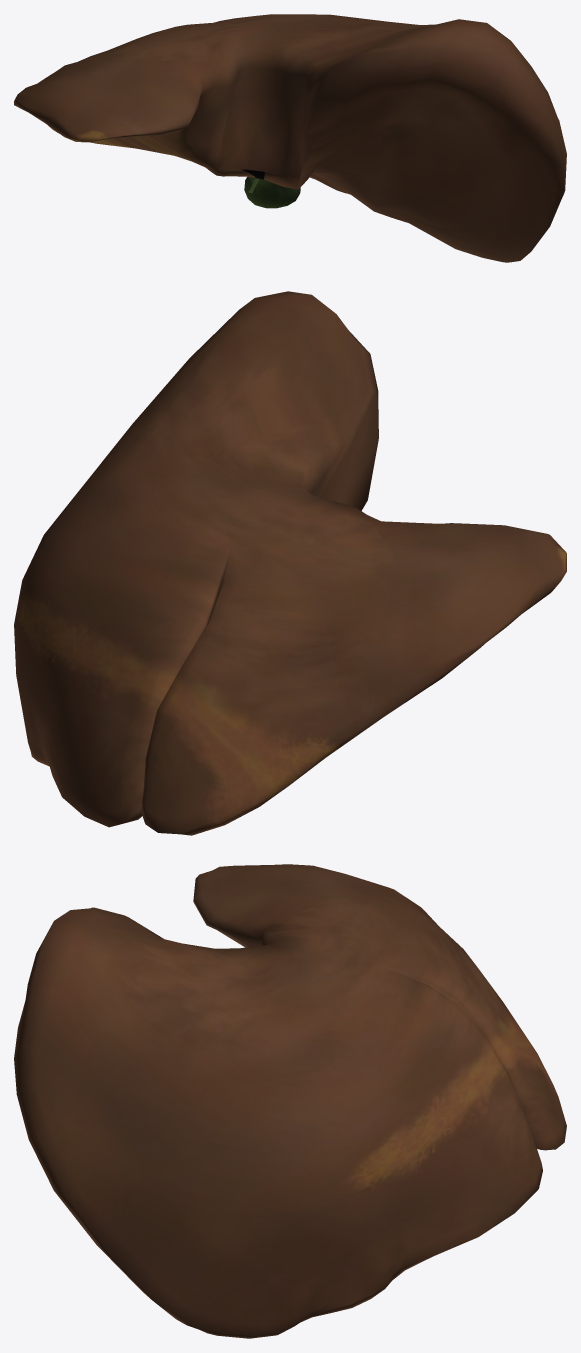
Rendered from resizedLiver.fbx.
3 views of the same model, one above another, from view 1: azimuth 30°, elevation 25°; view 2: azimuth 150°, elevation 25°; view 3: azimuth 270°, elevation 25° (orthographic). The views are drawn at different scales.
Parts seen in each view (by area): view 1: node_Liver_-994, node_Group53789_10674; view 2: node_Liver_-994; view 3: node_Liver_-994.
Boxes of the visible parts, x1,y1,x2,y2 form: node_Liver_-994: (14,14,566,262); node_Group53789_10674: (244,177,300,208); node_Liver_-994: (14,291,566,835); node_Liver_-994: (14,864,566,1338).
Bounding box in the file's own units: 65.14 × 46.3 × 65.86.
